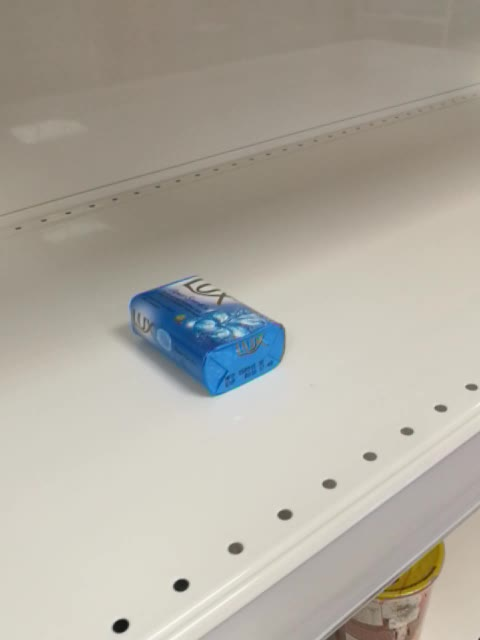soap: (128, 274, 287, 397)
